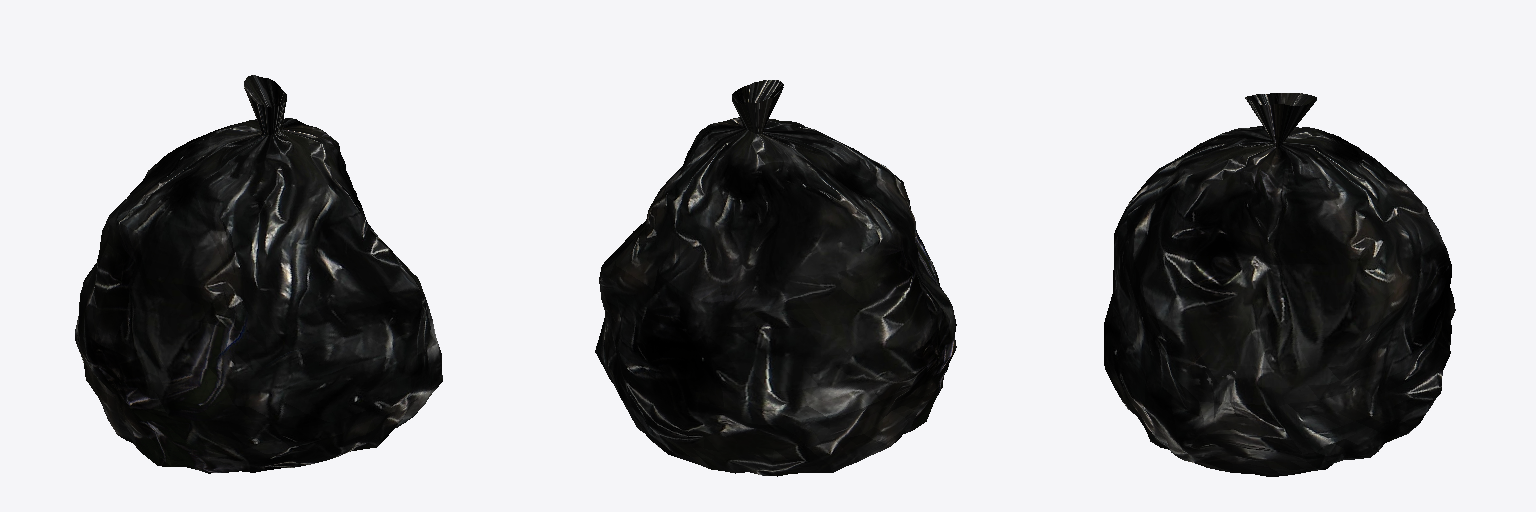
3 renders of one model, left to right at view 1: azimuth 30°, elevation 25°; view 2: azimuth 150°, elevation 25°; view 3: azimuth 270°, elevation 25°, orthographic.
Parts seen in each view (by area): view 1: binbag2; view 2: binbag2; view 3: binbag2.
Boxes of the visible parts, x1=… form: binbag2: x1=75, y1=75, x2=442, y2=473; binbag2: x1=595, y1=80, x2=956, y2=476; binbag2: x1=1104, y1=93, x2=1455, y2=476.
Bounding box in the file's own units: 28.88 × 28.36 × 27.6.
Materials: 1 (1 with a texture image).